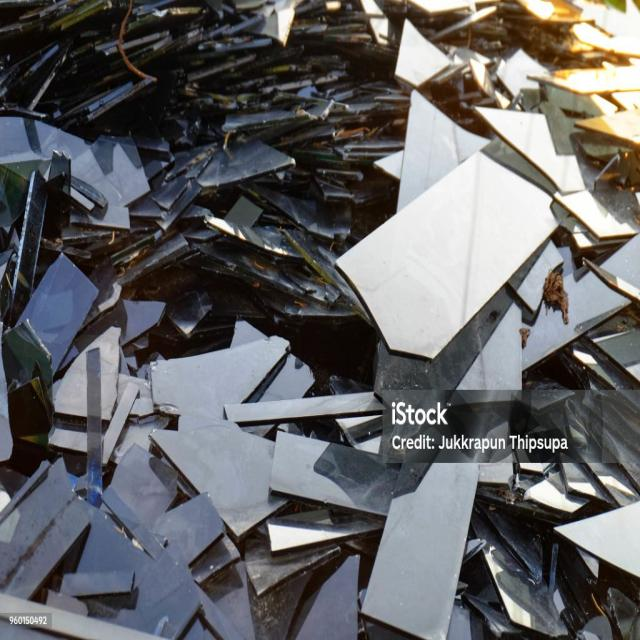PecahanKaca: (0, 258, 333, 640), (337, 82, 633, 389)
